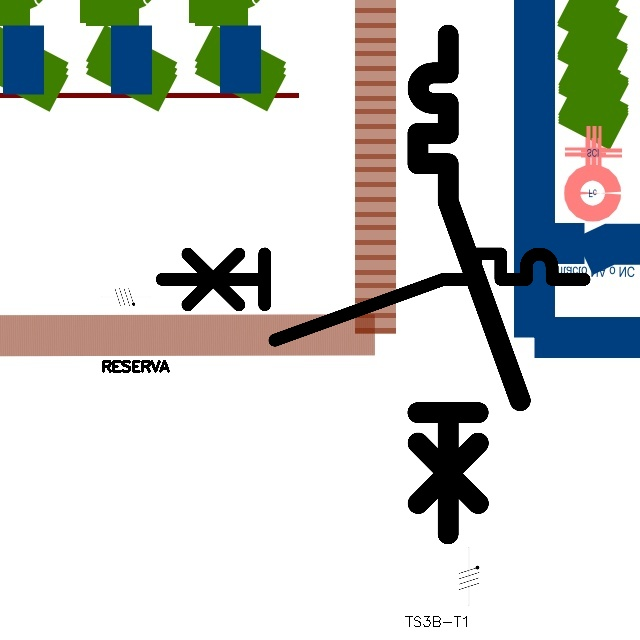interruptor_termomagnetico: (405, 22, 533, 546), (151, 243, 594, 351)
